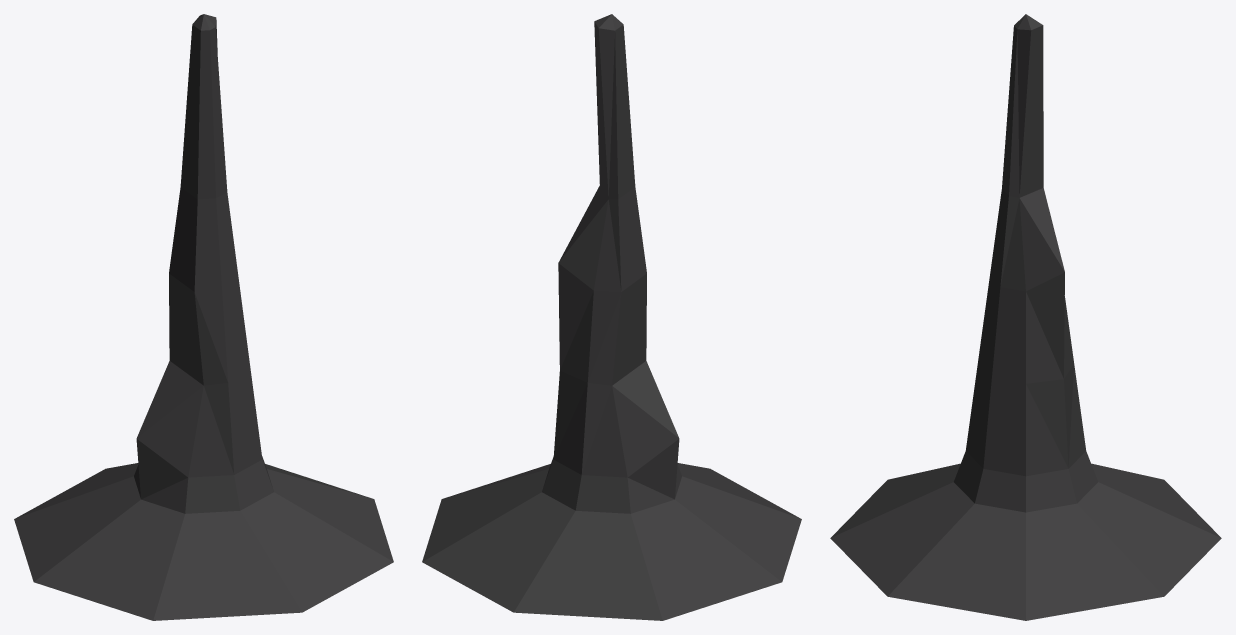
Rendered from Stal_2E.fbx.
3 renders of one model, left to right at view 1: azimuth 30°, elevation 25°; view 2: azimuth 150°, elevation 25°; view 3: azimuth 270°, elevation 25°, orthographic.
Parts seen in each view (by area): view 1: pCone38; view 2: pCone38; view 3: pCone38.
Part boxes in pixels (box(x1,y1,x2,y2)): pCone38: box(14, 14, 393, 620); pCone38: box(422, 14, 801, 620); pCone38: box(830, 14, 1221, 620).
Bounding box in the file's own units: 2.71 × 4 × 2.71.
